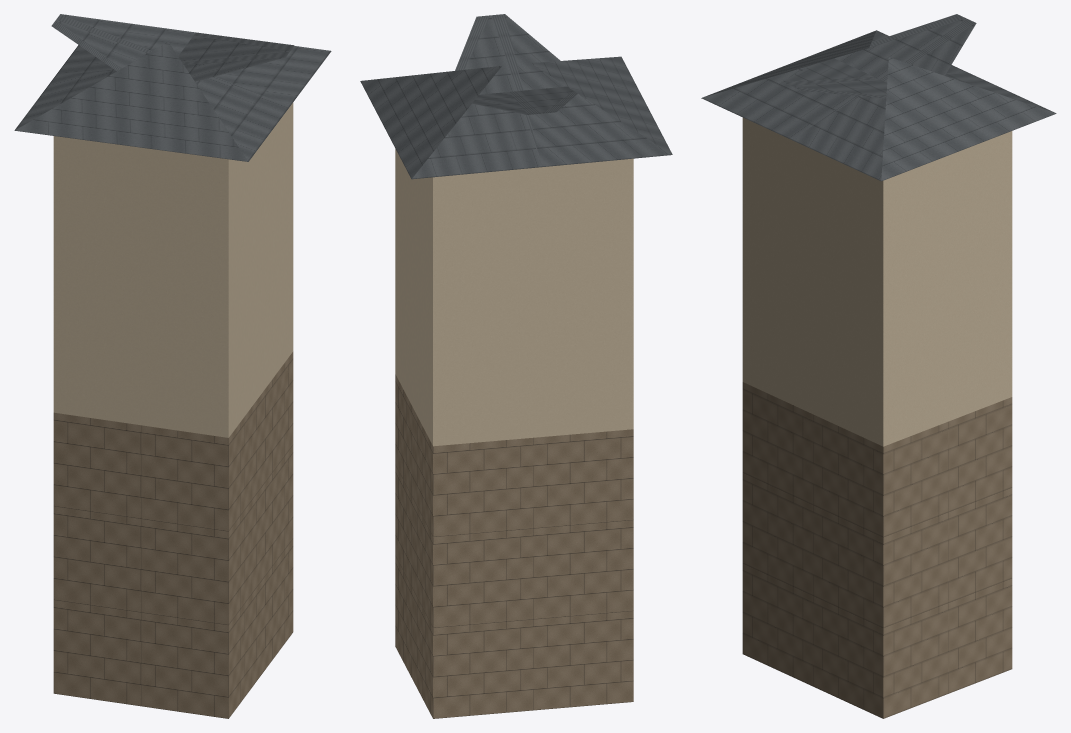
Rendered from bld_c18_16_508.gltf.
3 renders of one model, left to right at view 1: azimuth 30°, elevation 25°; view 2: azimuth 150°, elevation 25°; view 3: azimuth 270°, elevation 25°, orthographic. The views are drawn at different scales.
Visible parts, largest first — view 1: bld_c18_16_508; view 2: bld_c18_16_508; view 3: bld_c18_16_508.
Boxes of the visible parts, <box> form: bld_c18_16_508: <box>14,14,331,718</box>; bld_c18_16_508: <box>360,14,672,718</box>; bld_c18_16_508: <box>701,14,1056,718</box>.
Size of the model in its own units: 6.07 by 11.4 by 6.04.
Materials: 3 (3 with a texture image).
